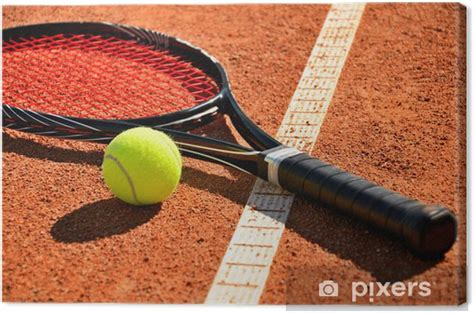tennis_ball: (102, 125, 183, 207)
